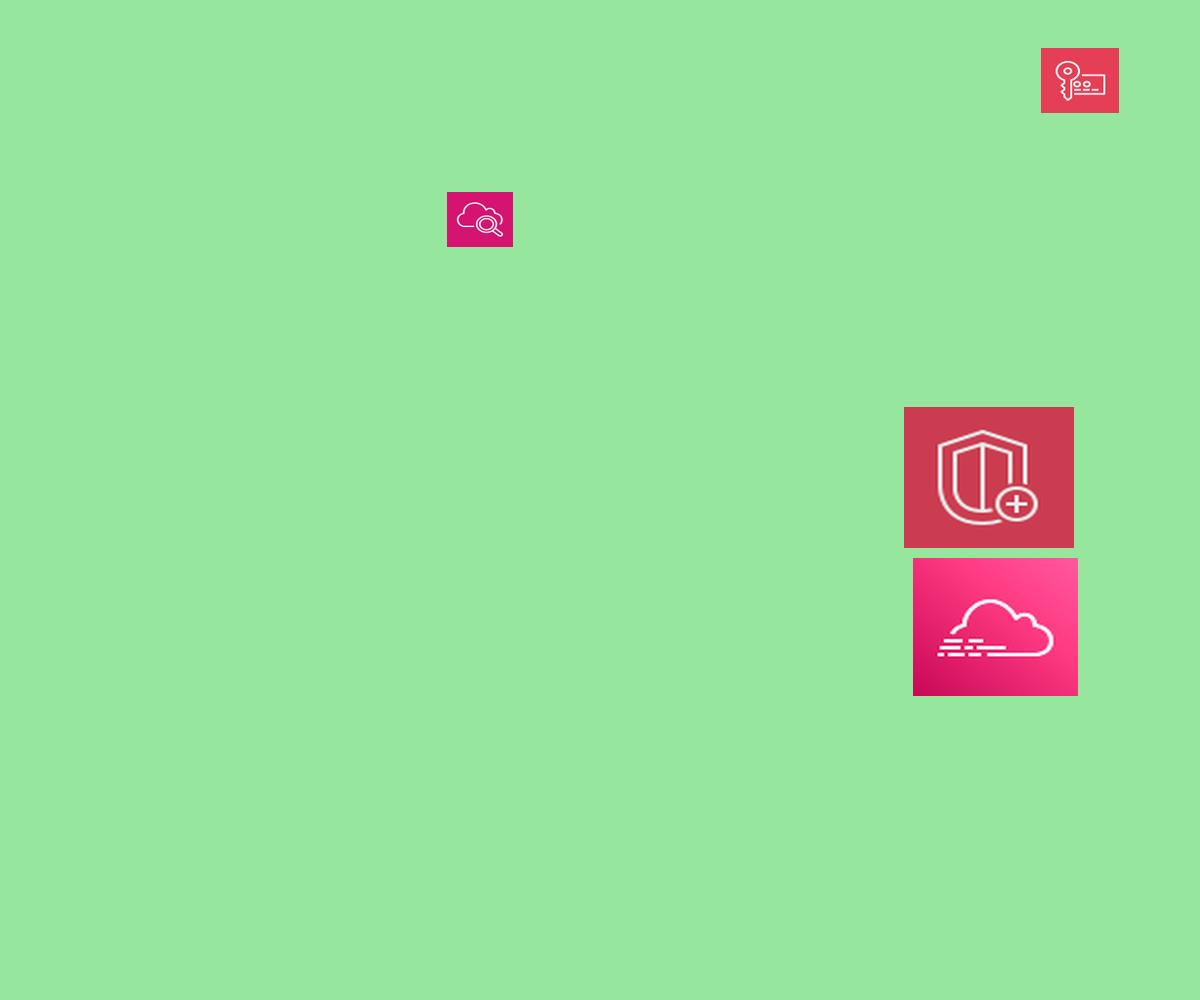AWS-CloudTrail: (913, 558, 1078, 696)
AWS-CloudWatch: (447, 192, 513, 247)
AWS-Key-Management-Service: (1041, 48, 1119, 113)
AWS-Shield: (904, 407, 1074, 548)
